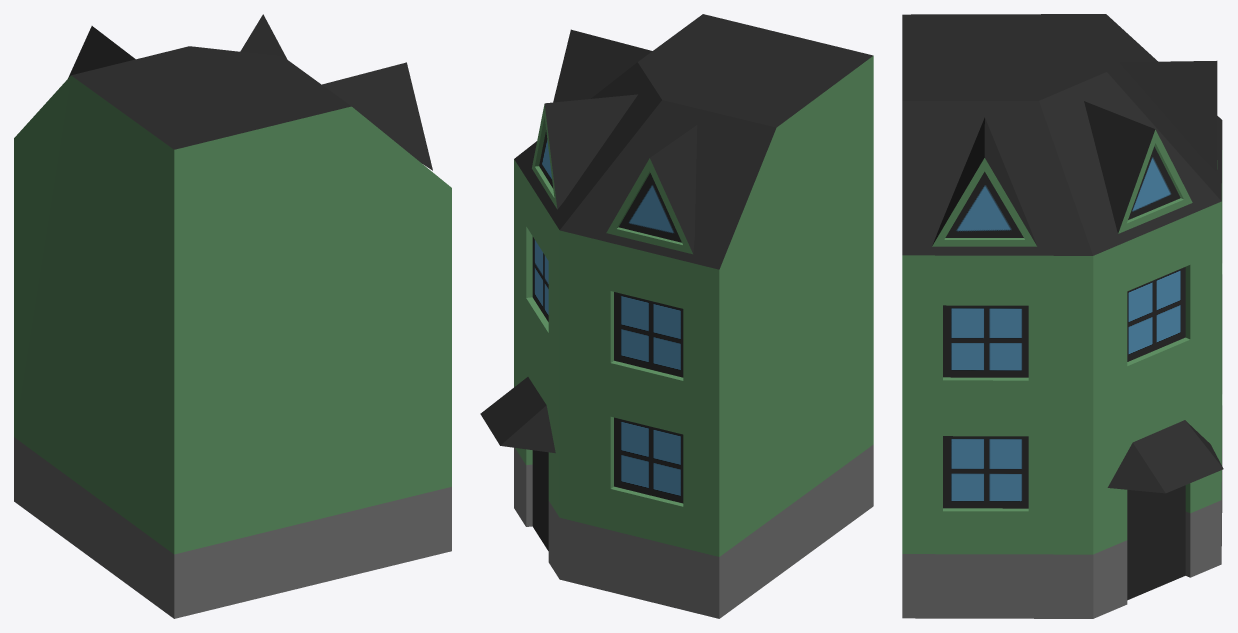
File: CornerTriangleGreen.obj
The picture shows the model from 3 angles, left to right: view 1: azimuth 30°, elevation 25°; view 2: azimuth 150°, elevation 25°; view 3: azimuth 270°, elevation 25°; orthographic projection. The views are drawn at different scales.
Visible parts, largest first — view 1: naroznikTrojkatZielony; view 2: naroznikTrojkatZielony; view 3: naroznikTrojkatZielony.
Part boxes in pixels (box(x1,y1,x2,y2)): naroznikTrojkatZielony: box(14, 14, 451, 618); naroznikTrojkatZielony: box(480, 14, 873, 618); naroznikTrojkatZielony: box(902, 14, 1223, 618).
Size of the model in its own units: 5.03 by 8.07 by 5.02.
